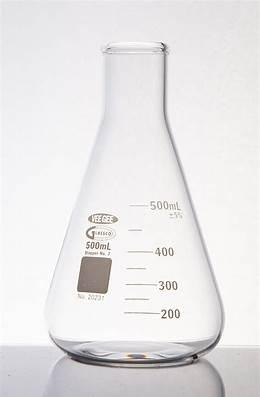Titrarion: (48, 18, 227, 358)
